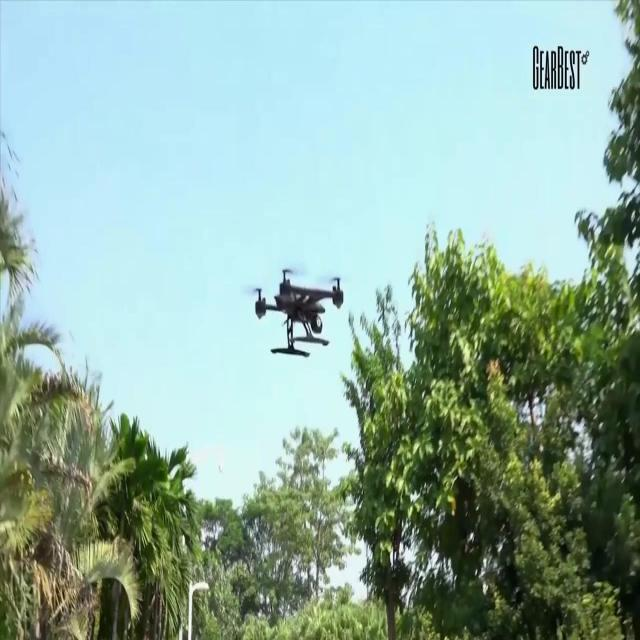UAV: (251, 268, 343, 358)
